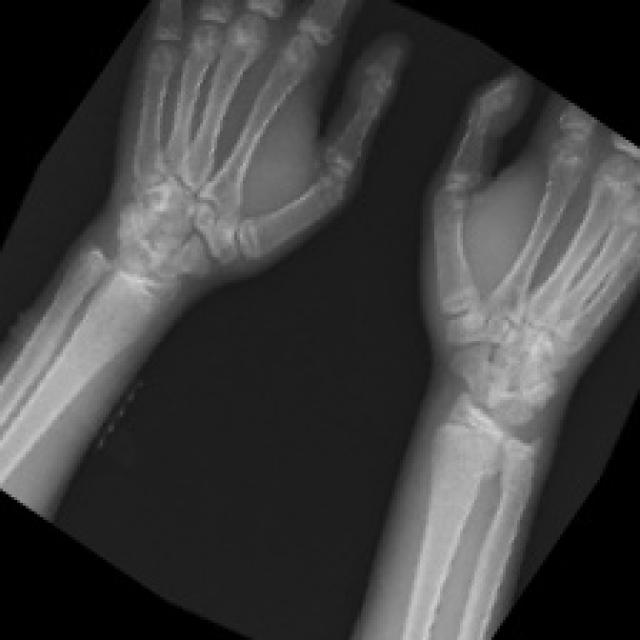fracture: (434, 347, 601, 477)
